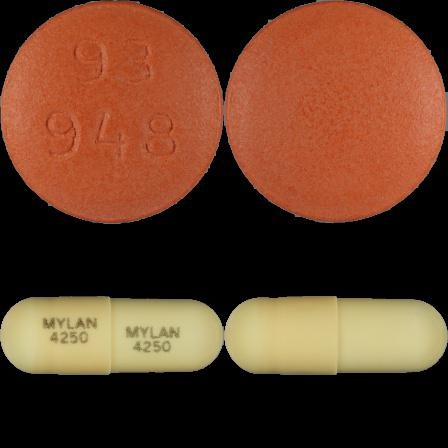52959-659: (0, 0, 224, 224)
